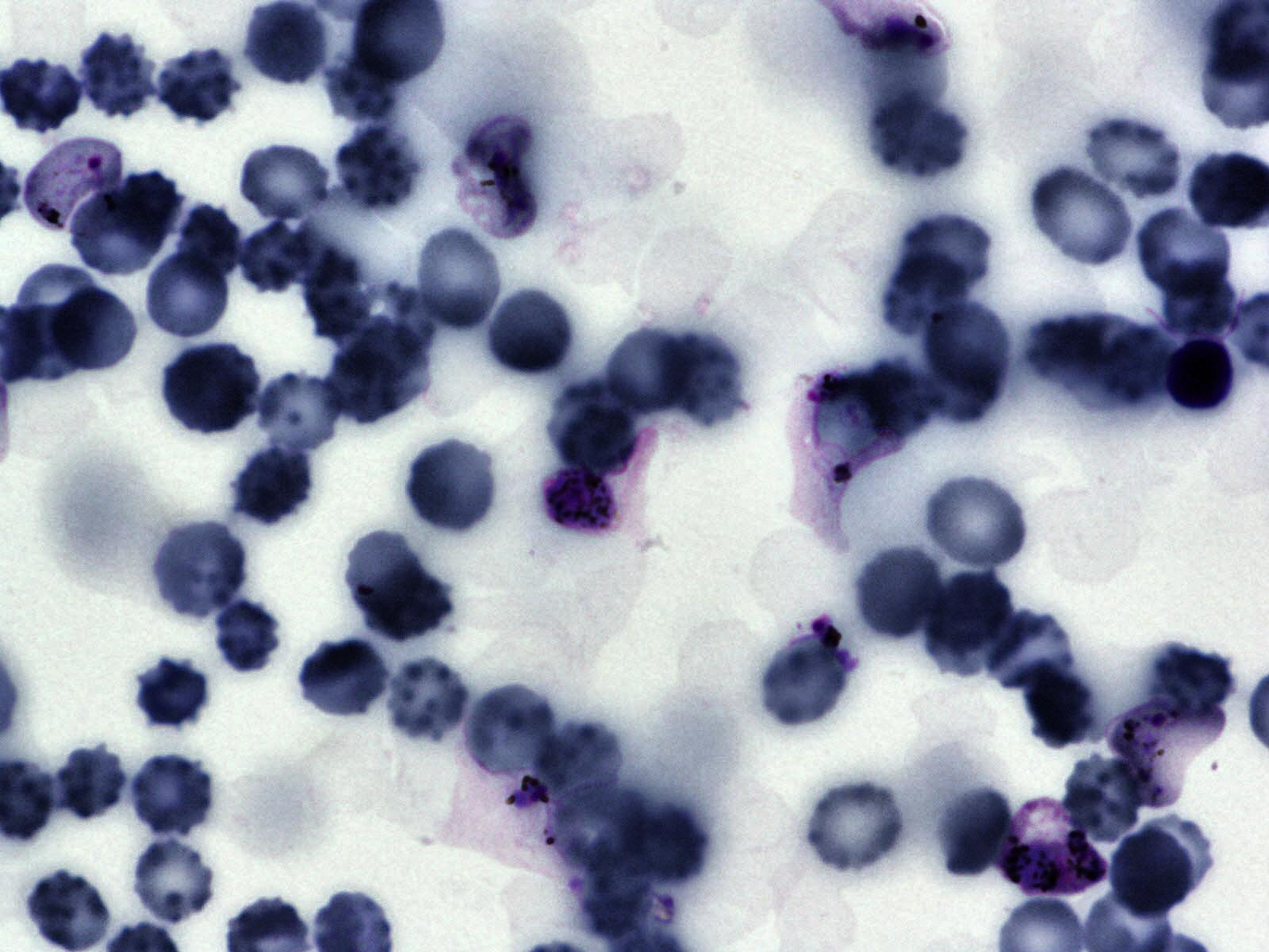Infected: (784, 371, 907, 543), (456, 752, 577, 886), (1108, 699, 1226, 808), (449, 113, 536, 240), (22, 135, 123, 236), (997, 796, 1099, 896), (1166, 332, 1236, 417), (541, 466, 616, 535)
Uninfected: (1026, 164, 1136, 270), (324, 321, 432, 424), (921, 473, 1029, 572), (802, 777, 907, 875), (67, 184, 174, 280), (412, 222, 502, 333), (869, 87, 971, 184), (1134, 203, 1235, 299), (150, 520, 249, 617), (403, 438, 500, 536), (1109, 820, 1203, 917), (142, 246, 235, 344), (160, 344, 259, 436), (853, 543, 942, 642), (483, 286, 576, 380), (127, 834, 220, 927), (659, 328, 747, 426), (236, 139, 335, 225), (50, 283, 142, 375), (471, 680, 565, 770), (550, 784, 646, 872), (360, 560, 458, 646), (931, 781, 1012, 883), (896, 208, 991, 294), (295, 638, 392, 722), (1086, 113, 1185, 195), (381, 654, 471, 744), (549, 380, 638, 471), (241, 0, 330, 90), (1063, 754, 1148, 847), (928, 302, 1011, 397), (757, 638, 848, 724), (983, 609, 1076, 693), (332, 127, 420, 214), (254, 370, 345, 454), (127, 754, 218, 836), (229, 443, 316, 527), (76, 32, 157, 121), (342, 529, 423, 616), (882, 253, 965, 336), (604, 328, 689, 409), (154, 48, 242, 126), (25, 872, 112, 950), (855, 359, 945, 433), (926, 572, 1008, 651), (535, 721, 621, 796), (209, 595, 287, 677), (304, 249, 371, 344), (630, 804, 707, 884), (1152, 643, 1236, 714), (1098, 328, 1178, 402), (1022, 664, 1095, 745), (135, 658, 213, 731), (233, 223, 309, 295), (1028, 314, 1105, 385), (52, 747, 125, 821), (112, 169, 182, 246), (324, 54, 397, 124), (177, 202, 243, 275)
